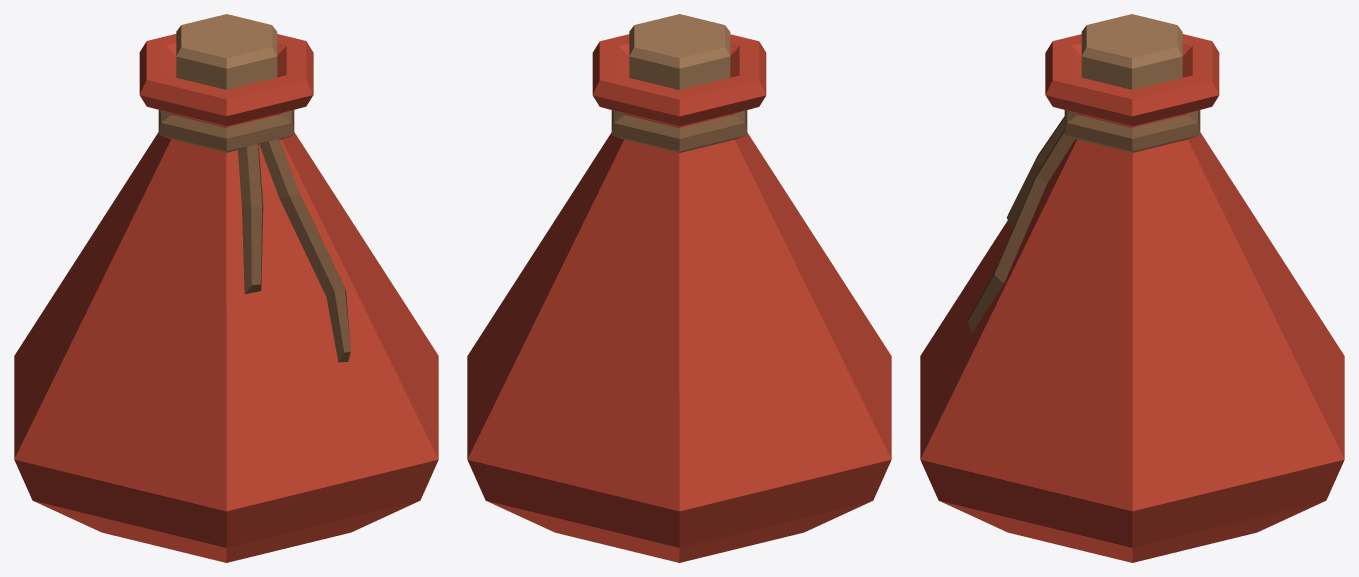
Rendered from Red_Potion_6(String).fbx.
3 renders of one model, left to right at view 1: azimuth 30°, elevation 25°; view 2: azimuth 150°, elevation 25°; view 3: azimuth 270°, elevation 25°, orthographic.
Visible parts, largest first — view 1: Red_Potion_6(String); view 2: Red_Potion_6(String); view 3: Red_Potion_6(String).
Boxes of the visible parts, x1,y1,x2,y2 form: Red_Potion_6(String): (14, 14, 438, 562); Red_Potion_6(String): (467, 14, 891, 562); Red_Potion_6(String): (920, 14, 1344, 562).
Bounding box in the file's own units: 20.22 × 21.21 × 17.51.
